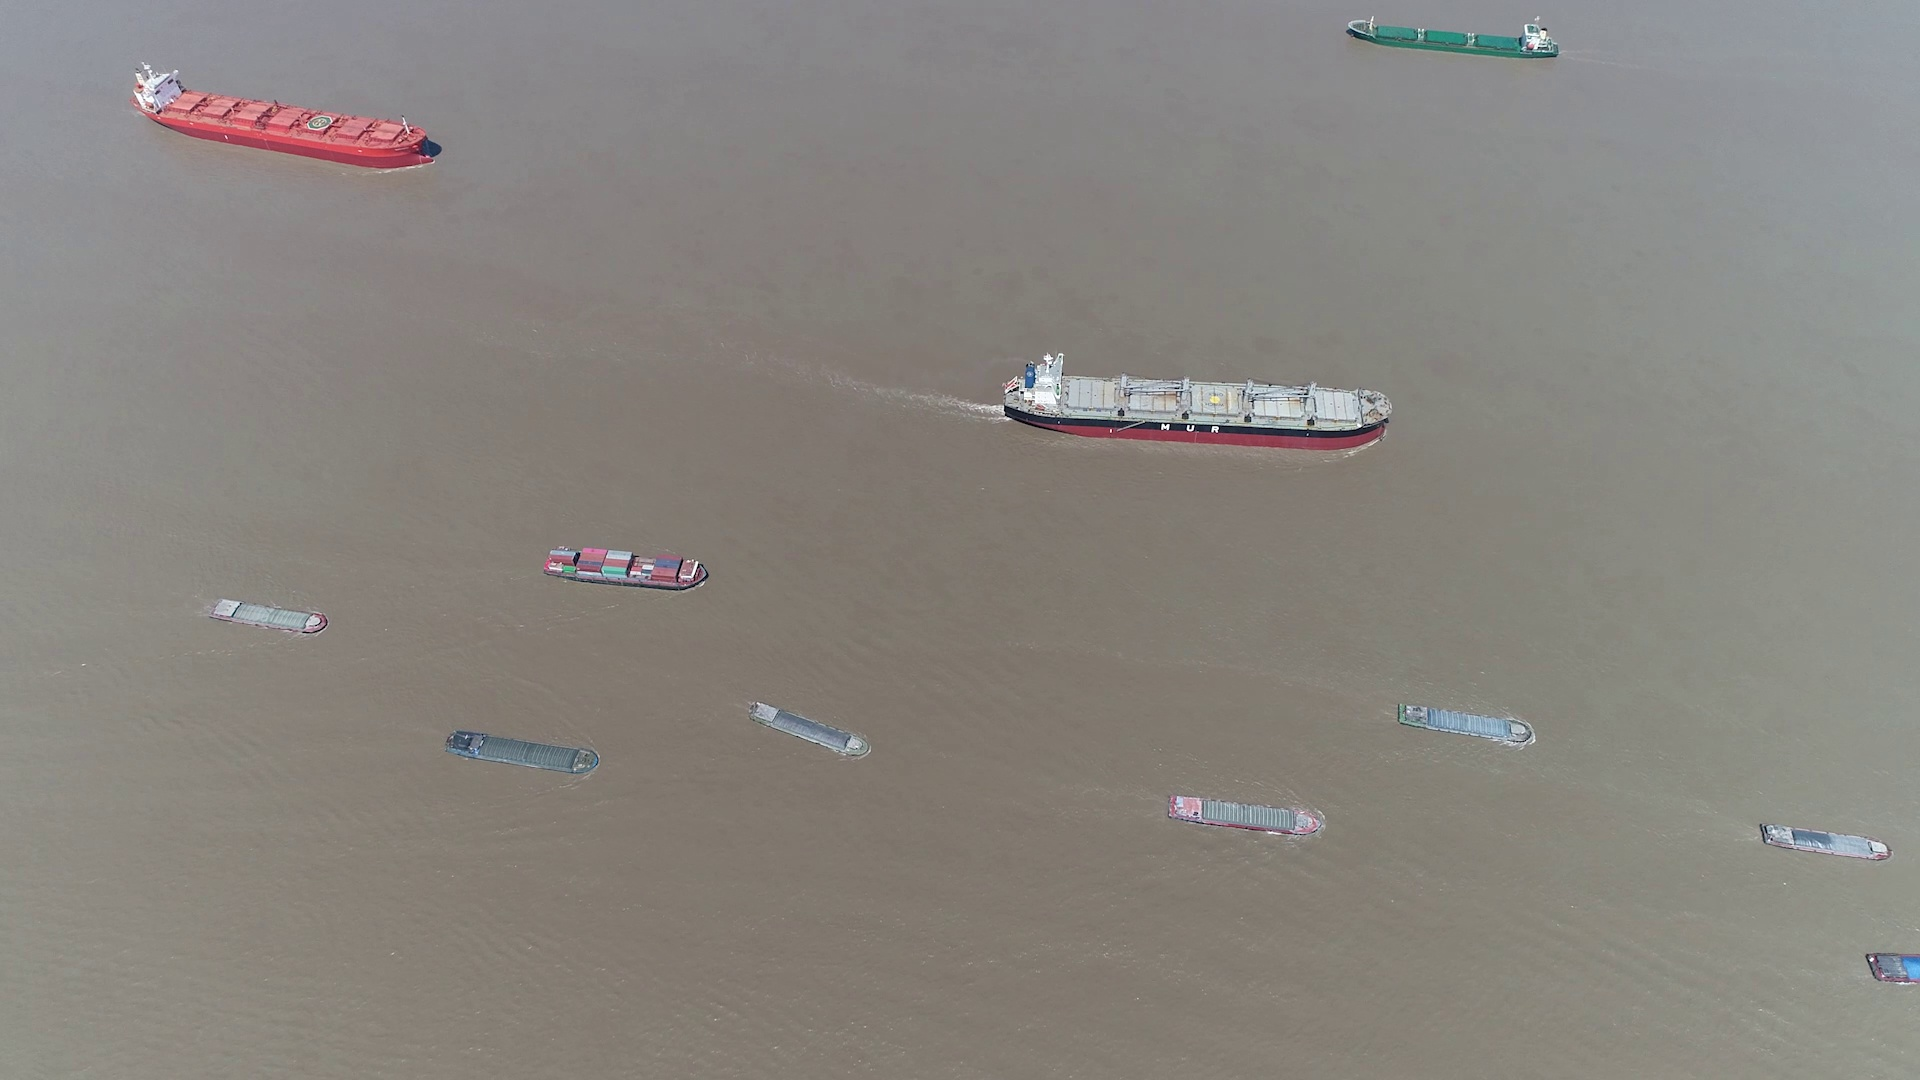ship: (998, 357, 1389, 448), (138, 61, 438, 166), (1348, 17, 1557, 58), (543, 543, 708, 589), (750, 702, 872, 762), (446, 731, 603, 775), (1168, 794, 1324, 837), (1396, 703, 1538, 745), (1758, 823, 1891, 862), (208, 597, 328, 634), (1865, 952, 1919, 986)
